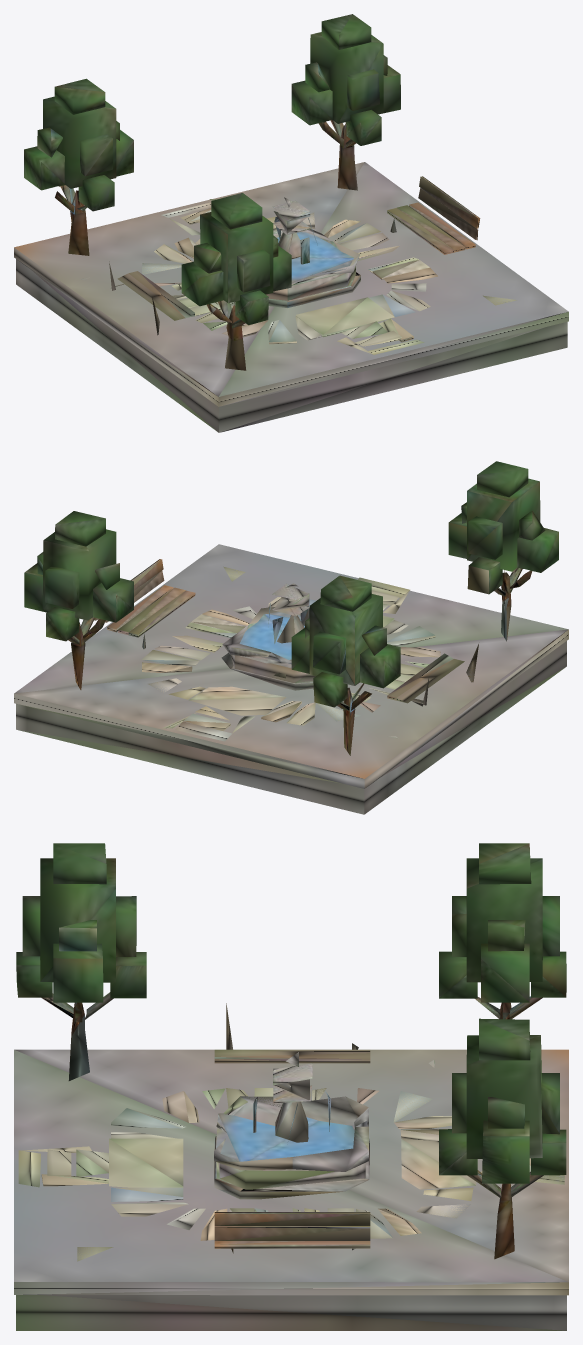
File: 39-park-with-fountain.glb
3 renders of one model, top to bottom at view 1: azimuth 30°, elevation 25°; view 2: azimuth 150°, elevation 25°; view 3: azimuth 270°, elevation 25°, orthographic. The views are drawn at different scales.
Visible parts, largest first — view 1: geometry_0; view 2: geometry_0; view 3: geometry_0.
Part boxes in pixels (x1,y1,x2,y2): geometry_0: (14,14,568,432); geometry_0: (14,461,568,814); geometry_0: (14,843,568,1330).
Bounding box in the file's own units: 0.9507 × 0.5102 × 0.937.
Materials: 1 (1 with a texture image).
